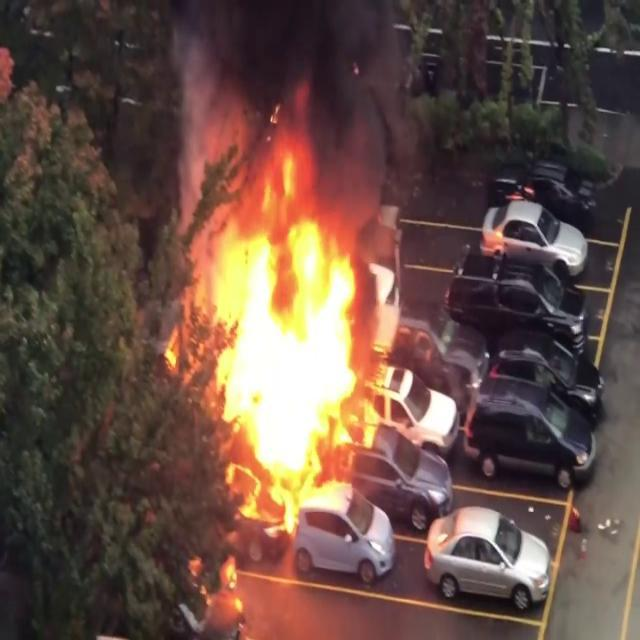Fire: (190, 118, 388, 528)
